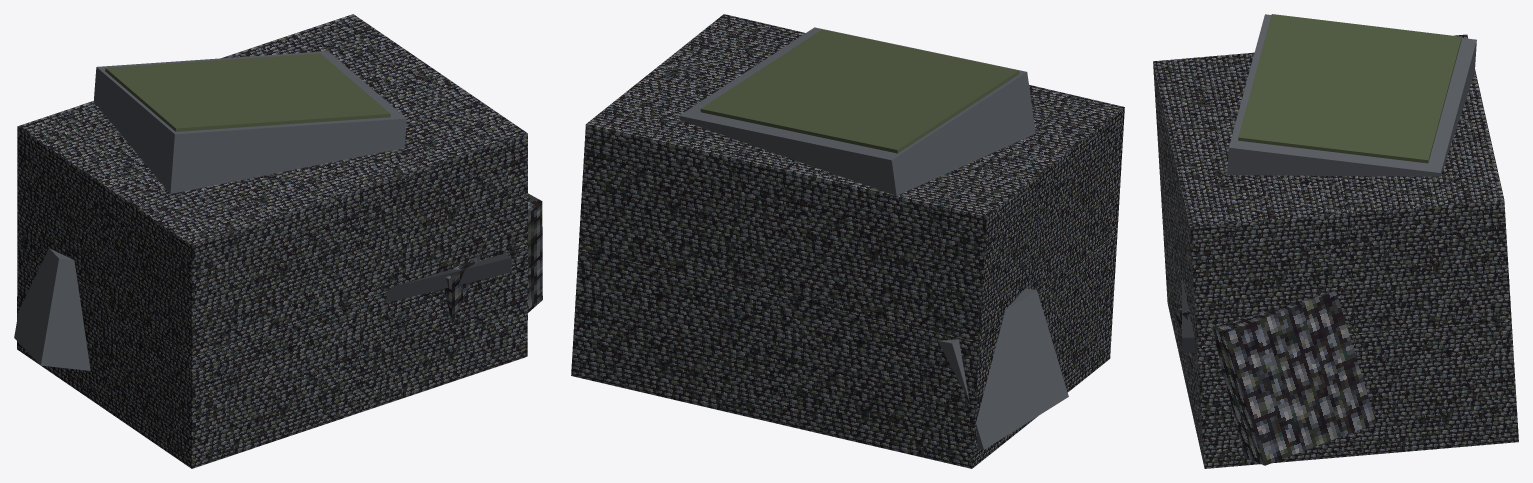
The model's file is roca_grande.glb.
The picture shows the model from 3 angles, left to right: view 1: azimuth 30°, elevation 25°; view 2: azimuth 150°, elevation 25°; view 3: azimuth 270°, elevation 25°; orthographic projection. The views are drawn at different scales.
Visible parts, largest first — view 1: Cube, Cube.001, Cube.002, Cube.004, Cube.003, Cube.005; view 2: Cube, Cube.002, Cube.001, Cube.004; view 3: Cube, Cube.002, Cube.003, Cube.001, Cube.005.
Boxes of the visible parts, x1,y1,x2,y2 form: Cube: (17,14,527,468); Cube.001: (94,51,406,193); Cube.002: (105,53,390,131); Cube.004: (14,248,90,370); Cube.003: (444,193,542,323); Cube.005: (384,253,511,303); Cube: (571,14,1124,468); Cube.002: (700,29,1019,153); Cube.001: (679,27,1035,195); Cube.004: (938,288,1068,449); Cube: (1153,34,1518,468); Cube.002: (1238,14,1461,163); Cube.003: (1175,291,1375,465); Cube.001: (1227,14,1476,176); Cube.005: (1182,277,1195,352).
Size of the model in its own units: 1.98 by 1.23 by 1.33.
4 materials, 1 textured.
